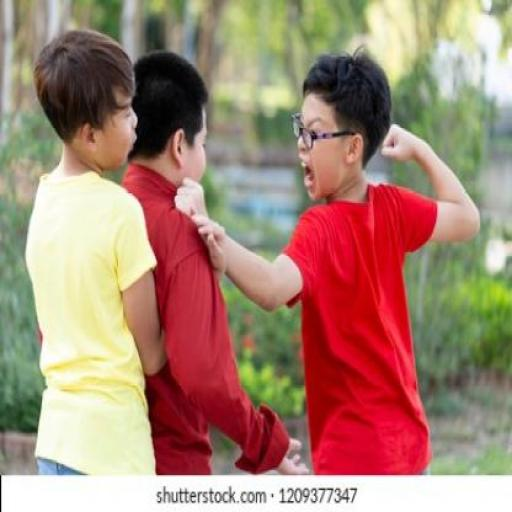Fighting: (140, 27, 480, 477)
